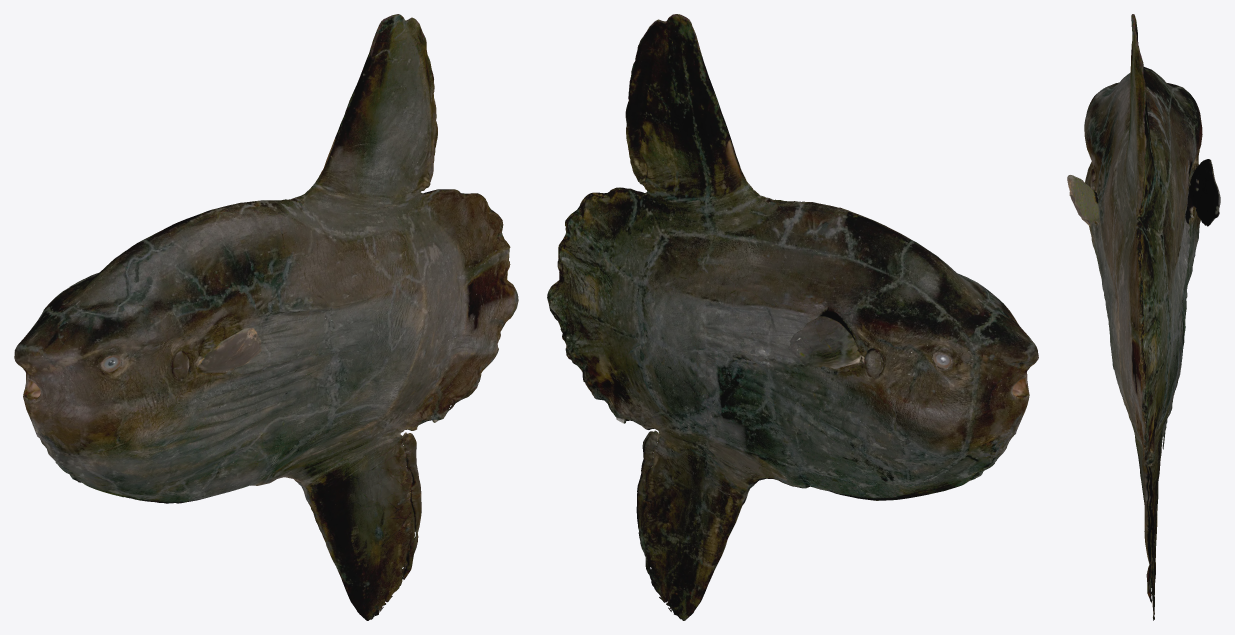
File: mola.glb
3 renders of one model, left to right at view 1: azimuth 30°, elevation 25°; view 2: azimuth 150°, elevation 25°; view 3: azimuth 270°, elevation 25°, orthographic. The views are drawn at different scales.
Parts seen in each view (by area): view 1: Object_2; view 2: Object_2; view 3: Object_2.
Part boxes in pixels (x1,y1,x2,y2): Object_2: [14, 14, 518, 620]; Object_2: [547, 14, 1038, 620]; Object_2: [1067, 14, 1220, 620].
Bounding box in the file's own units: 3.45 × 4 × 0.9101.
Materials: 1 (1 with a texture image).
